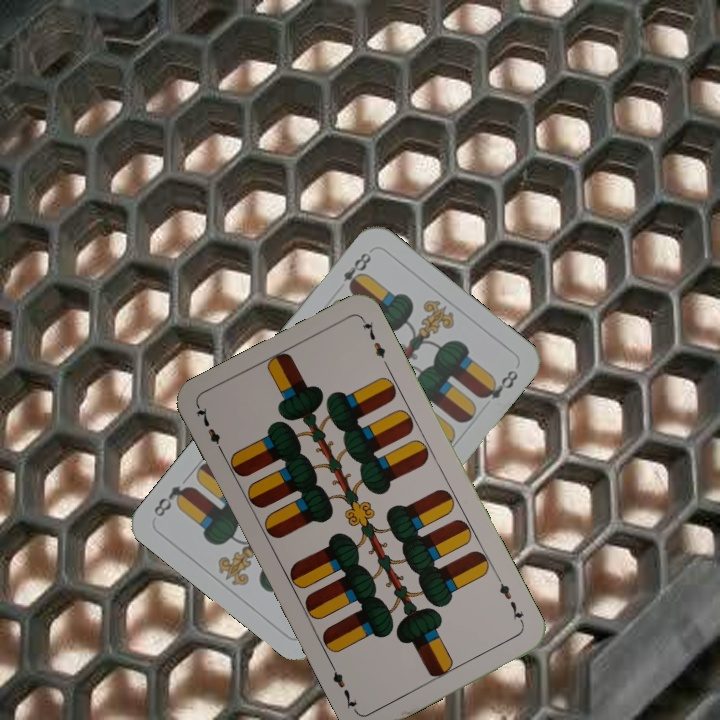E7: (192, 402, 227, 457), (493, 573, 527, 628)
E8: (338, 248, 374, 295)
